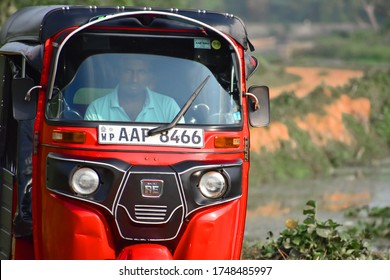threewheel: (1, 5, 270, 261)
